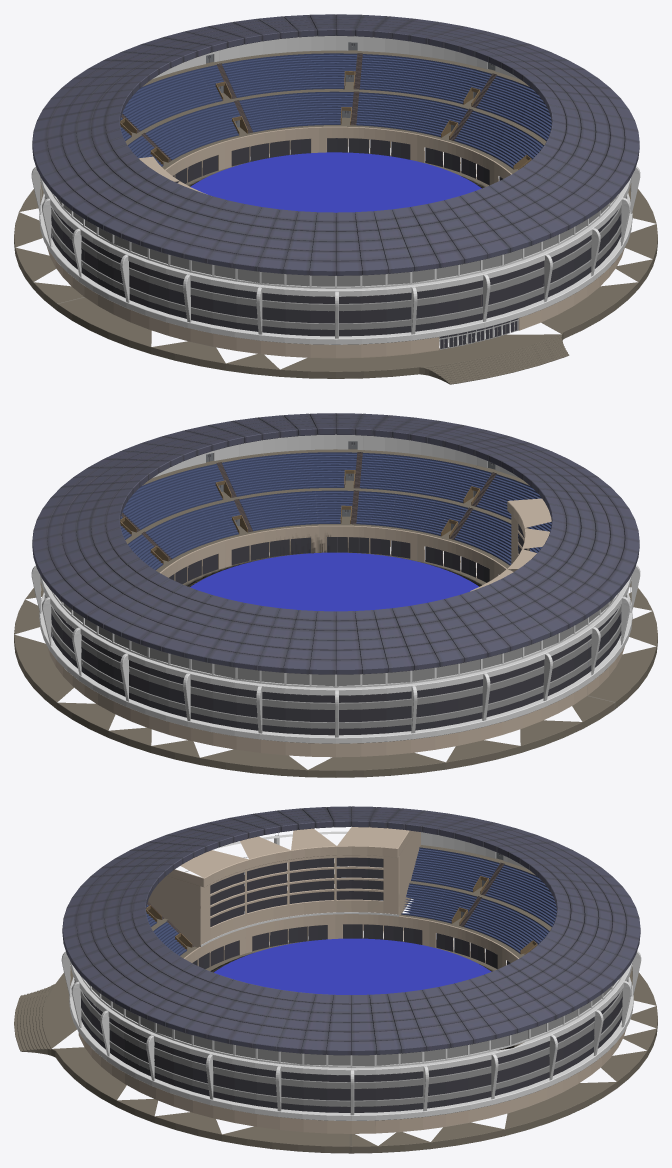
Rendered from stadium_big.glb.
The picture shows the model from 3 angles, top to bottom: view 1: azimuth 30°, elevation 25°; view 2: azimuth 150°, elevation 25°; view 3: azimuth 270°, elevation 25°; orthographic projection. The views are drawn at different scales.
Bounding box in the file's own units: 70 × 14.63 × 73.54.
Materials: 2 (1 with a texture image).
